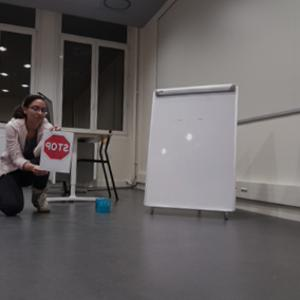big: (146, 86, 238, 215)
small: (96, 198, 112, 212)
